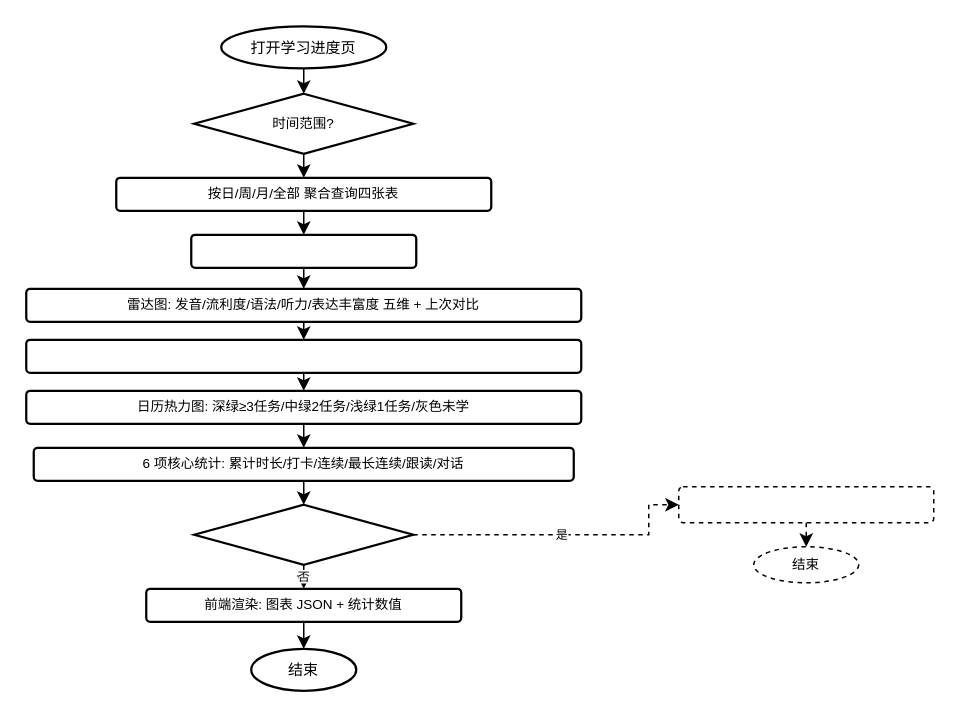
The diagram is 962 pixels wide and 719 high, and some of its shapes have lost their labels. The shapes that lost their labels are listed below. From the top down, each one's centre as x and y in pixels, then its label:
At (x=303, y=250): "可视化图表生成".
At (x=303, y=355): "趋势折线图: X轴时间 Y轴分数 (发音蓝 + 流利度绿)".
At (x=805, y=504): "「完成首次测评后展示」".
At (x=303, y=534): "新用户?".
